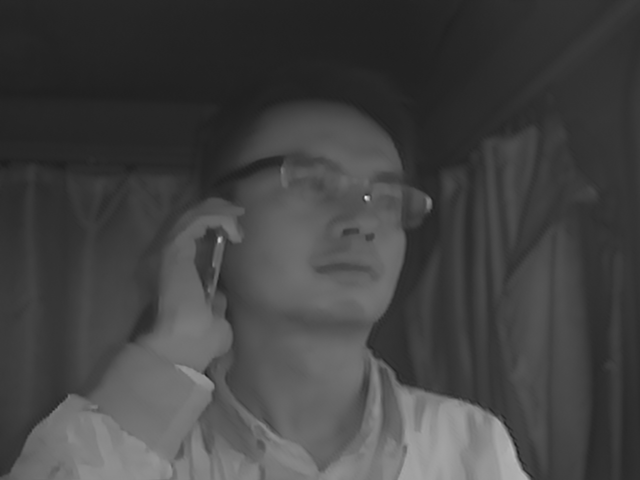hand: (146, 197, 245, 353)
